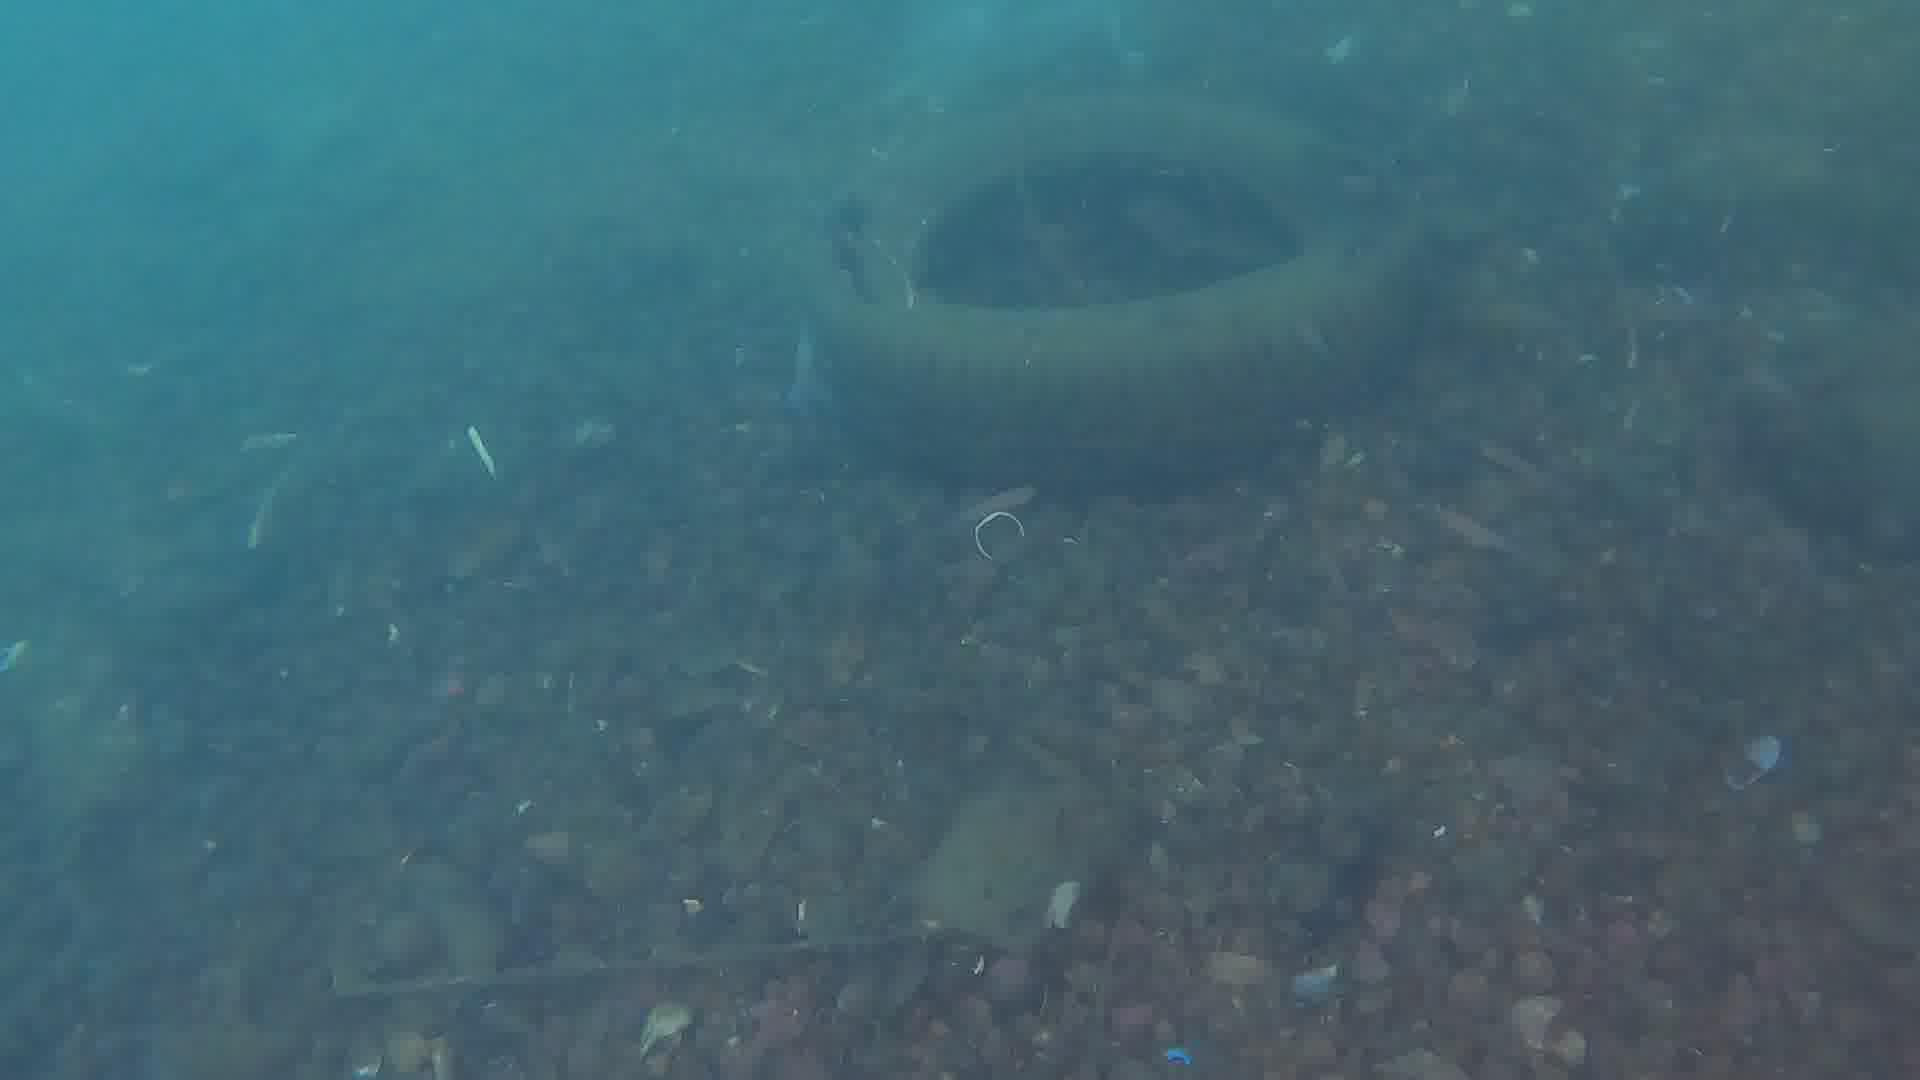tire: (793, 98, 1411, 491)
